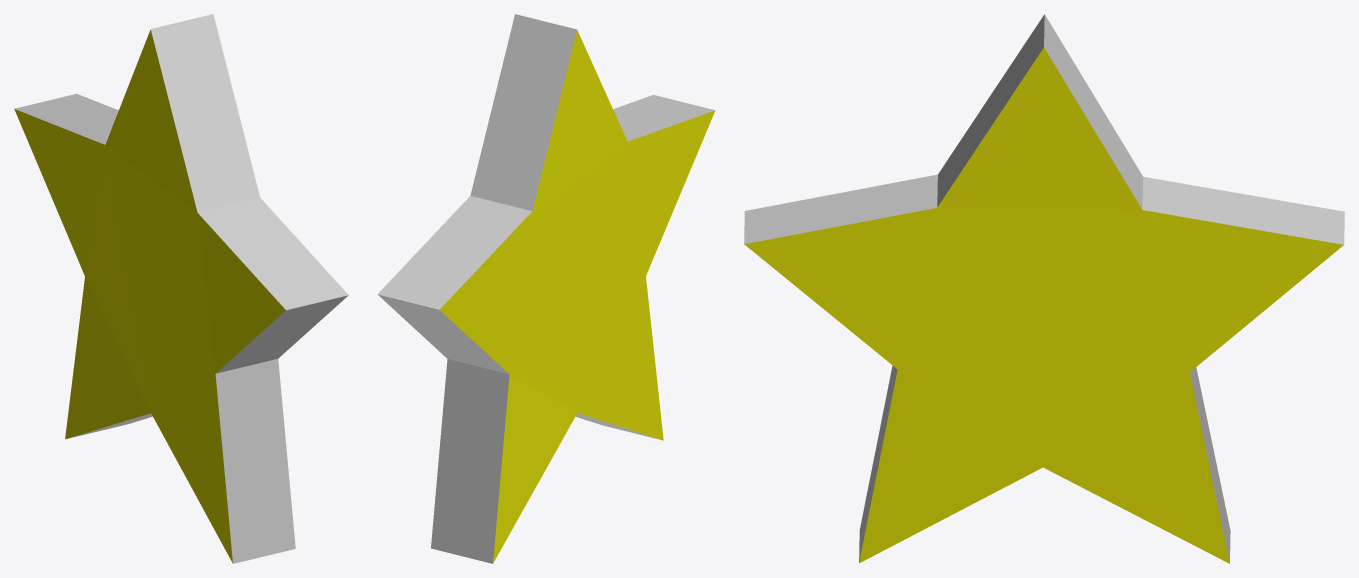
File: star.fbx
3 renders of one model, left to right at view 1: azimuth 30°, elevation 25°; view 2: azimuth 150°, elevation 25°; view 3: azimuth 270°, elevation 25°, orthographic. The views are drawn at different scales.
Parts seen in each view (by area): view 1: Star; view 2: Star; view 3: Star.
Boxes of the visible parts, <box> form: Star: <box>14,14,348,563</box>; Star: <box>377,14,715,563</box>; Star: <box>744,14,1344,563</box>.
Bounding box in the file's own units: 0.2625 × 1.81 × 1.9.
